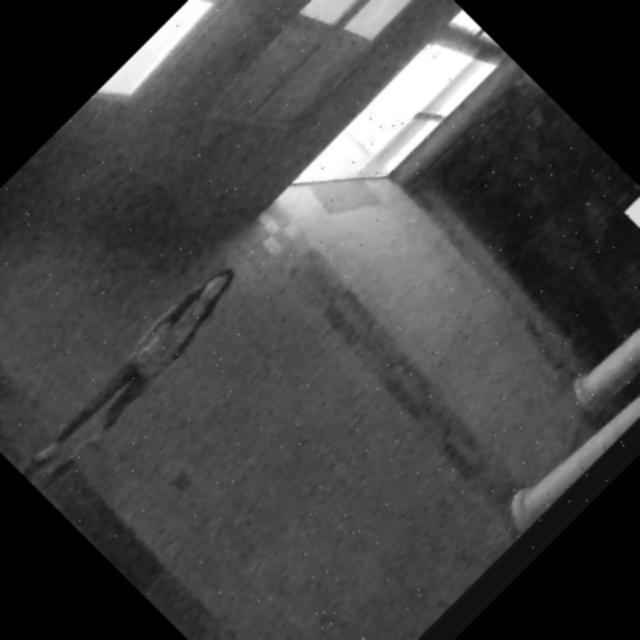person: (22, 254, 255, 486)
